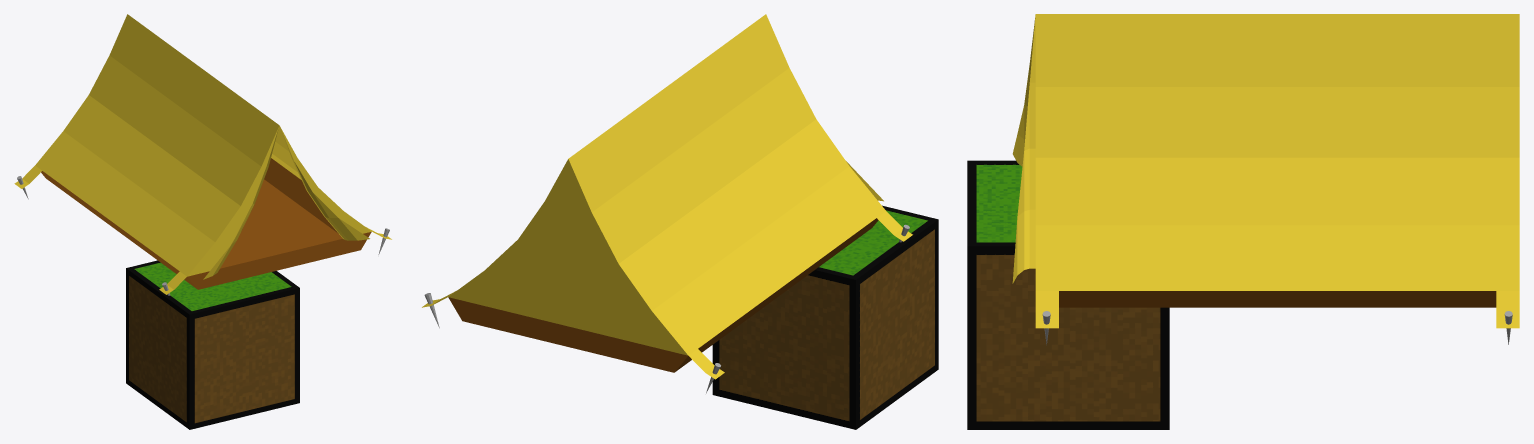
File: TentSouthFacing.glb
The picture shows the model from 3 angles, left to right: view 1: azimuth 30°, elevation 25°; view 2: azimuth 150°, elevation 25°; view 3: azimuth 270°, elevation 25°; orthographic projection. The views are drawn at different scales.
Visible parts, largest first — view 1: Cube, Grass_v2Baked; view 2: Cube, Grass_v2Baked; view 3: Cube, Grass_v2Baked.
Part boxes in pixels (x1,y1,x2,y2): Cube: (14, 14, 391, 295); Grass_v2Baked: (126, 260, 299, 429); Cube: (422, 14, 912, 393); Grass_v2Baked: (712, 205, 938, 429); Cube: (1012, 14, 1519, 345); Grass_v2Baked: (967, 160, 1169, 429).
Size of the model in its own units: 2.02 by 2.23 by 2.67.
Materials: 4 (1 with a texture image).
